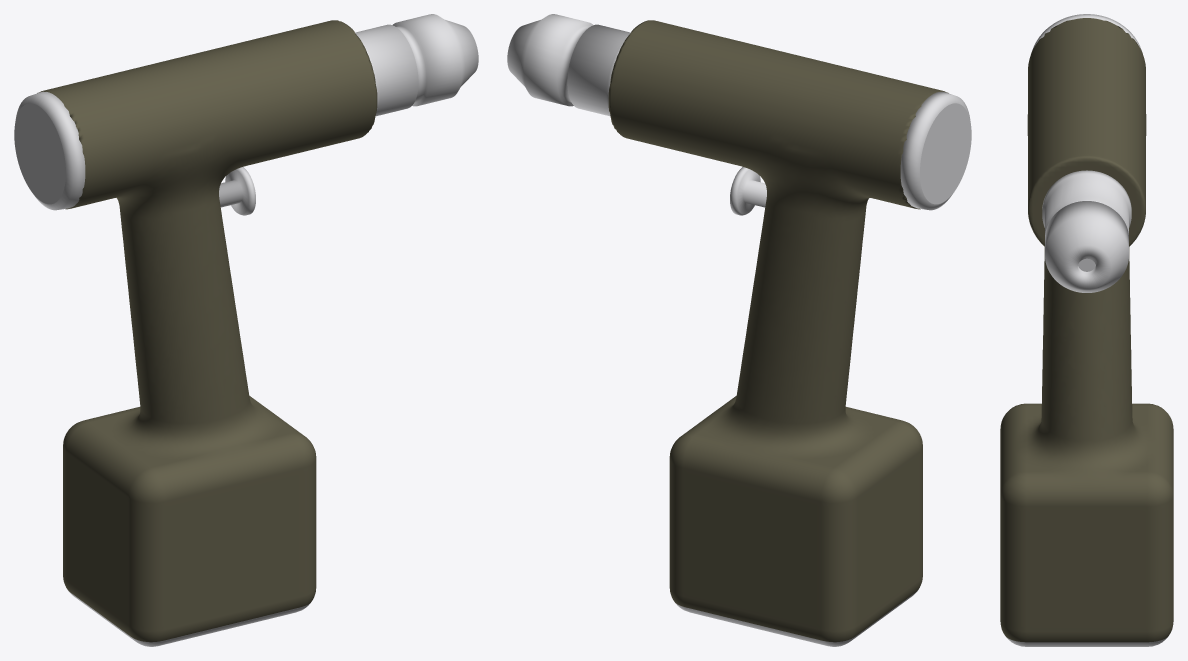
File: drill-high-speed.glb
3 renders of one model, left to right at view 1: azimuth 30°, elevation 25°; view 2: azimuth 150°, elevation 25°; view 3: azimuth 270°, elevation 25°, orthographic. The views are drawn at different scales.
Visible parts, largest first — view 1: body, nose, rear, trigger; view 2: body, nose, rear, trigger; view 3: body, nose, rear.
Boxes of the visible parts, bbox=[...] form: body: bbox=[37, 20, 377, 646]; nose: bbox=[355, 14, 478, 116]; rear: bbox=[14, 91, 85, 210]; trigger: bbox=[219, 167, 255, 215]; body: bbox=[608, 20, 948, 646]; nose: bbox=[507, 14, 630, 116]; rear: bbox=[900, 91, 971, 210]; trigger: bbox=[730, 167, 766, 215]; body: bbox=[1000, 18, 1173, 646]; nose: bbox=[1042, 170, 1131, 292]; rear: bbox=[1032, 14, 1141, 50].
Size of the model in its own units: 0.1664 by 0.2023 by 0.06.
